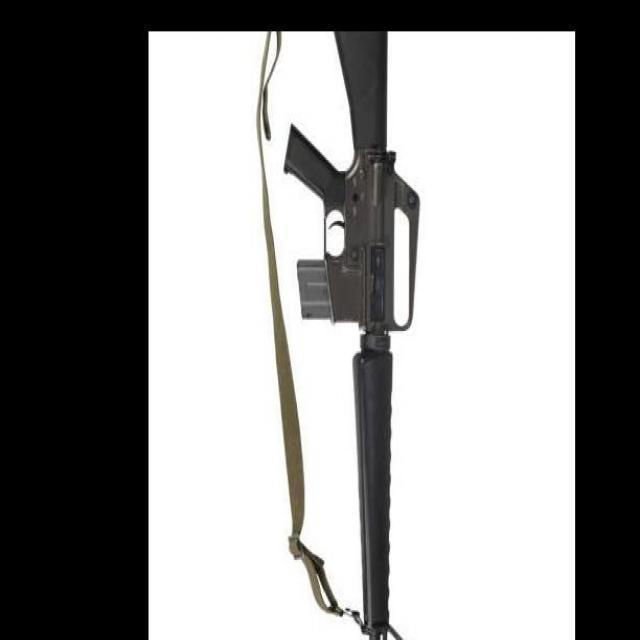weapon: (283, 34, 421, 640)
